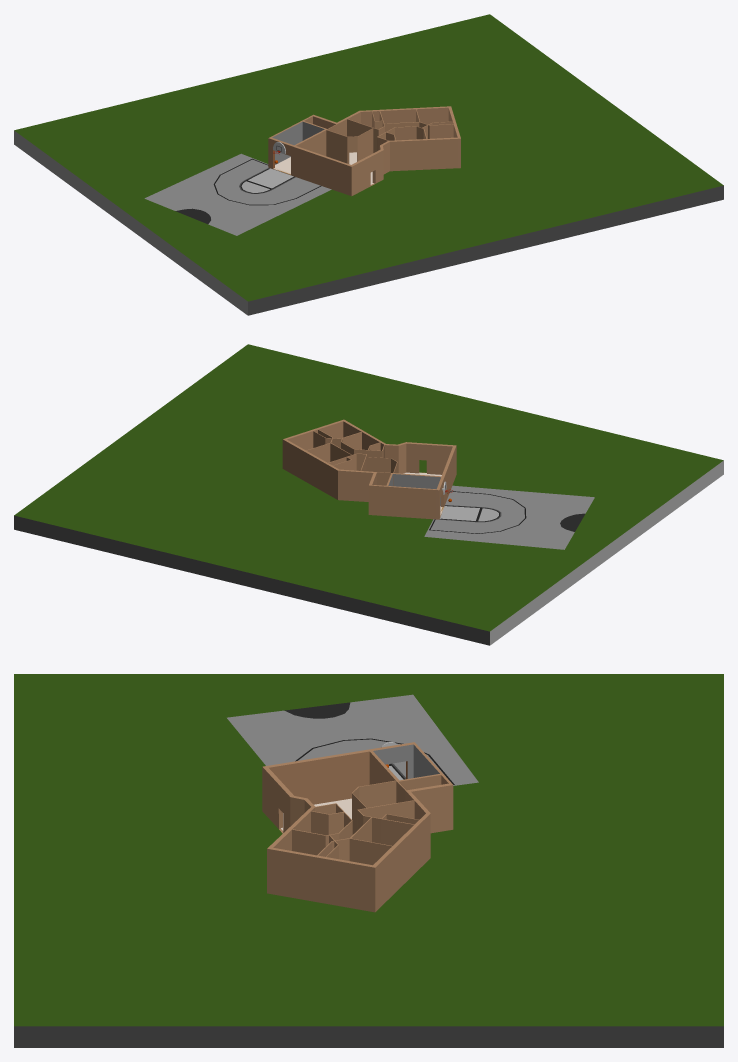
Rendered from maisonbasket.glb.
3 renders of one model, top to bottom at view 1: azimuth 30°, elevation 25°; view 2: azimuth 150°, elevation 25°; view 3: azimuth 270°, elevation 25°, orthographic. The views are drawn at different scales.
Visible parts, largest first — view 1: Trottoire, Maison; view 2: Trottoire, Maison; view 3: Trottoire, Maison.
Part boxes in pixels (box(x1,y1,x2,y2)): Trottoire: box(14, 14, 723, 315); Maison: box(268, 106, 460, 196); Trottoire: box(14, 344, 723, 645); Maison: box(282, 419, 456, 519); Trottoire: box(14, 674, 723, 1047); Maison: box(262, 742, 453, 912).
Bounding box in the file's own units: 70.4 × 6.36 × 59.96.
1 material, 1 textured.
